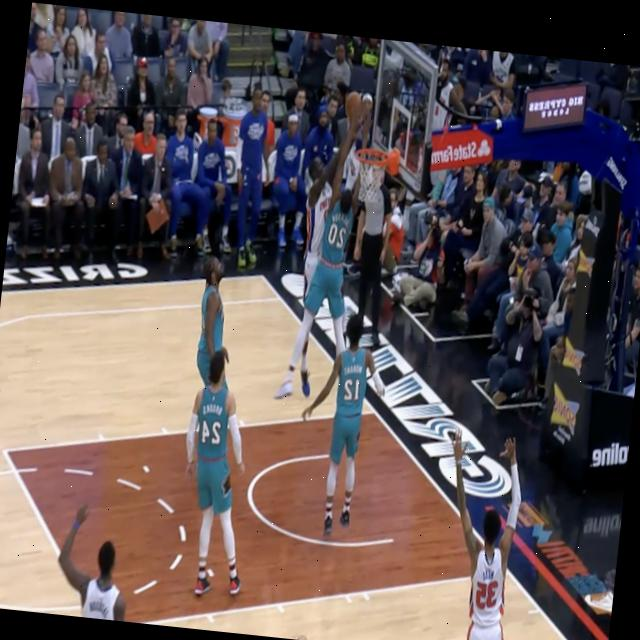foul: (273, 91, 376, 428)
no foul: (154, 248, 273, 594), (302, 310, 384, 538)
